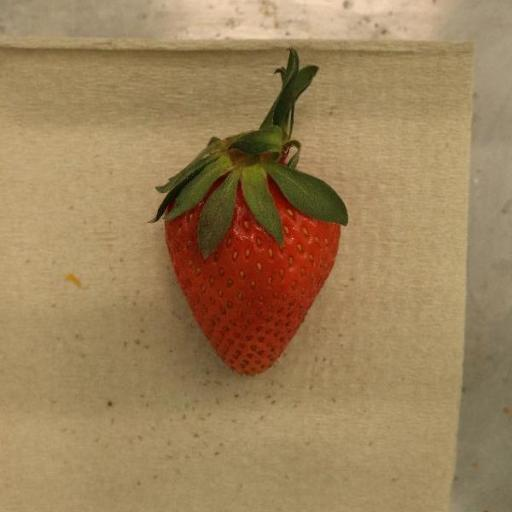Strawberry: (152, 49, 349, 378)
